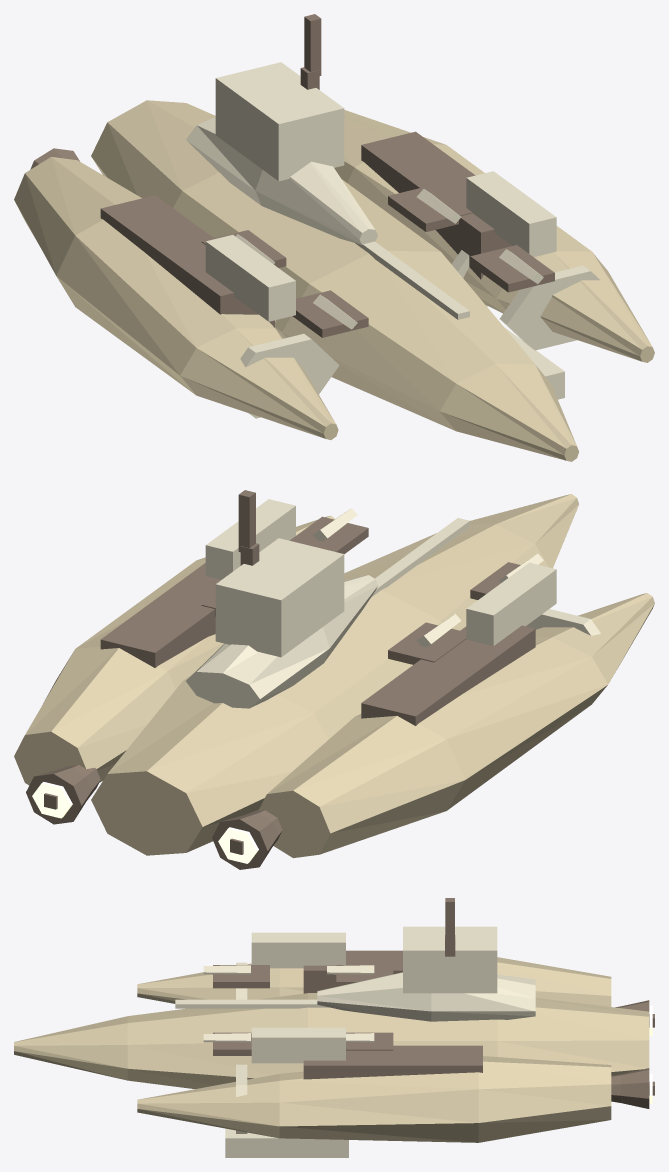
3 views of the same model, one above another, from view 1: azimuth 30°, elevation 25°; view 2: azimuth 150°, elevation 25°; view 3: azimuth 270°, elevation 25° (orthographic). The views are drawn at different scales.
Size of the model in its own units: 15.67 by 10.32 by 27.19.
